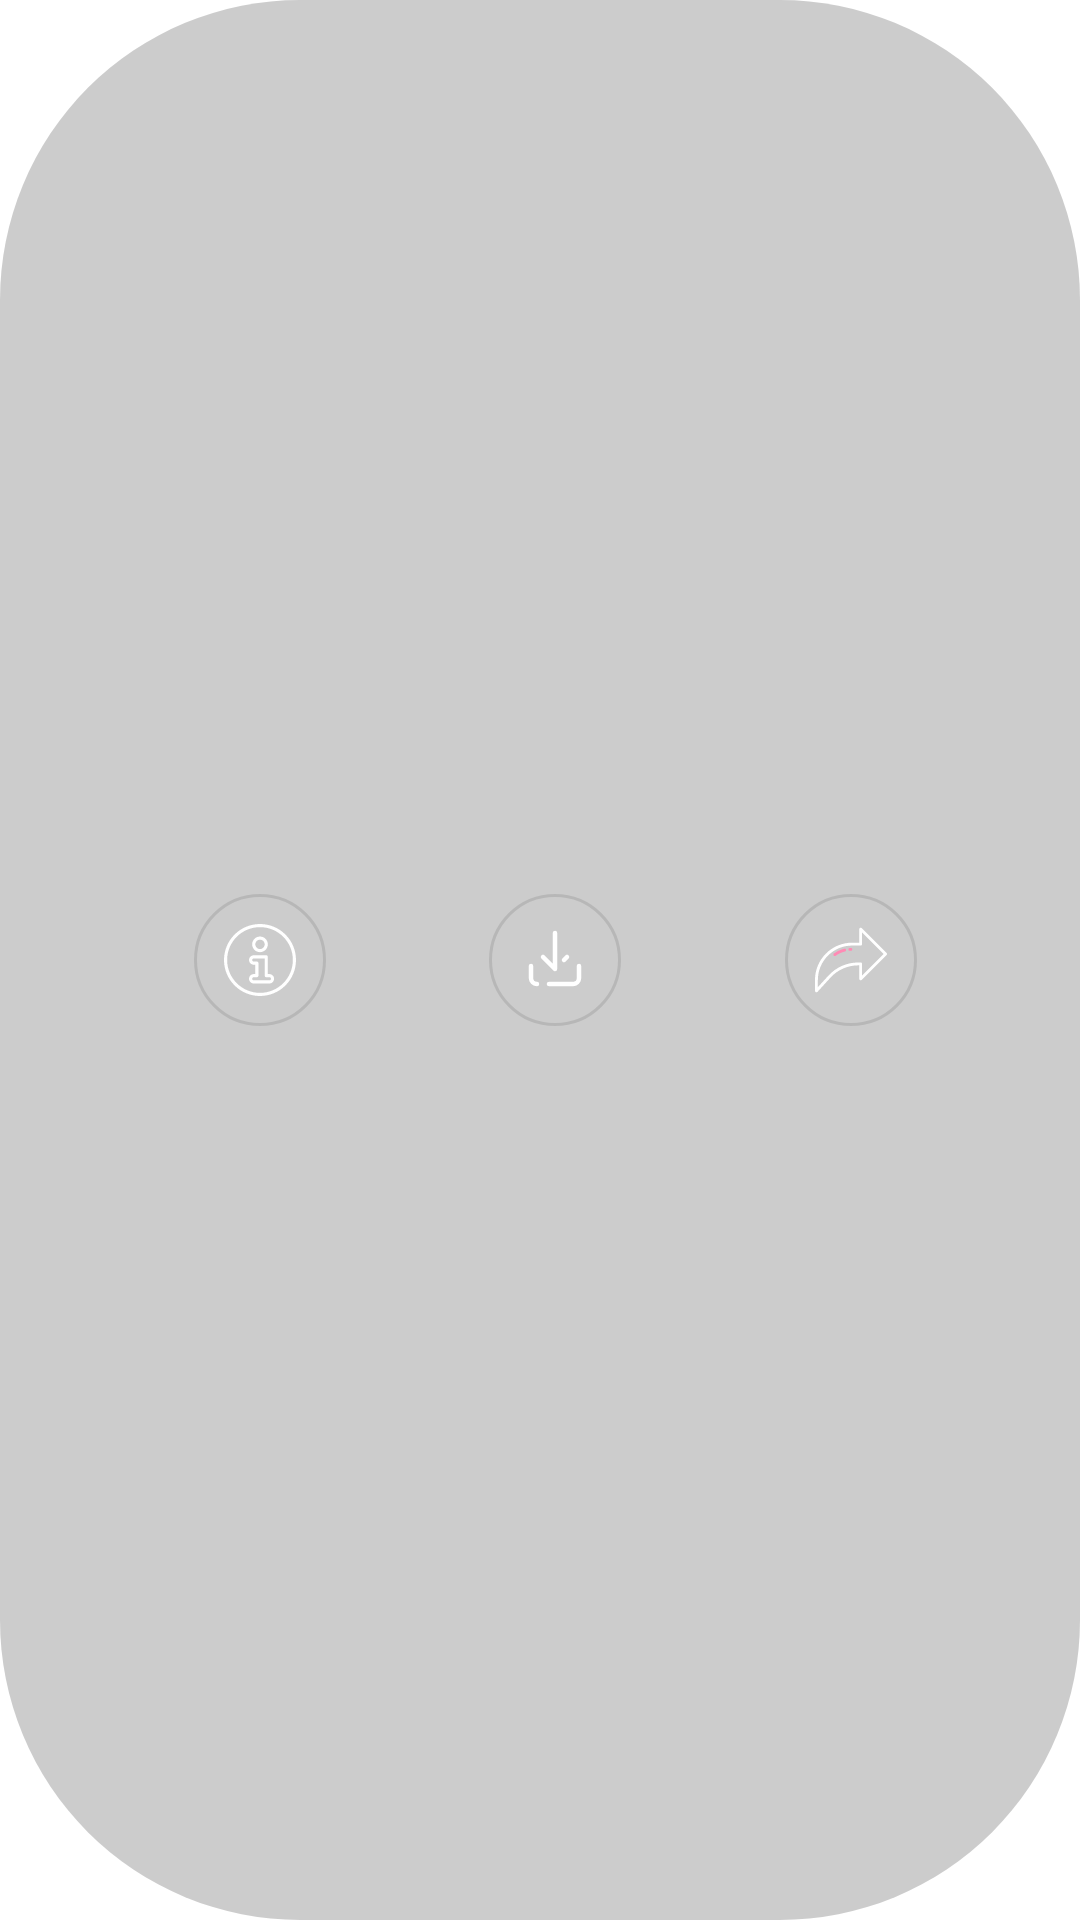

Named icons in this screenshot (1080w x 1920h) and their centers, (x,y):
download arrow: (555,958)
info: (260,960)
share: (851,960)
